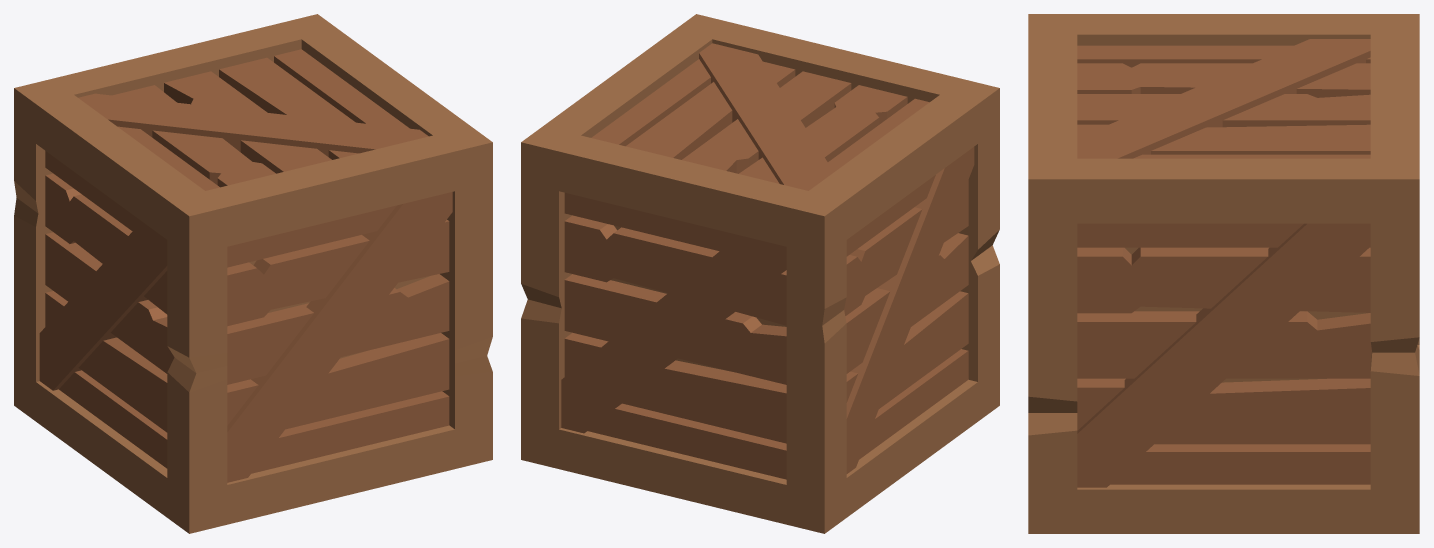
Rendered from ThungGo.glb.
The picture shows the model from 3 angles, left to right: view 1: azimuth 30°, elevation 25°; view 2: azimuth 150°, elevation 25°; view 3: azimuth 270°, elevation 25°; orthographic projection. The views are drawn at different scales.
Visible parts, largest first — view 1: Crate; view 2: Crate; view 3: Crate.
Part boxes in pixels (left/top/right/bottom): Crate: left=14, top=14, right=492, bottom=533; Crate: left=521, top=14, right=999, bottom=533; Crate: left=1028, top=14, right=1419, bottom=533.
Size of the model in its own units: 1 by 1 by 1.
